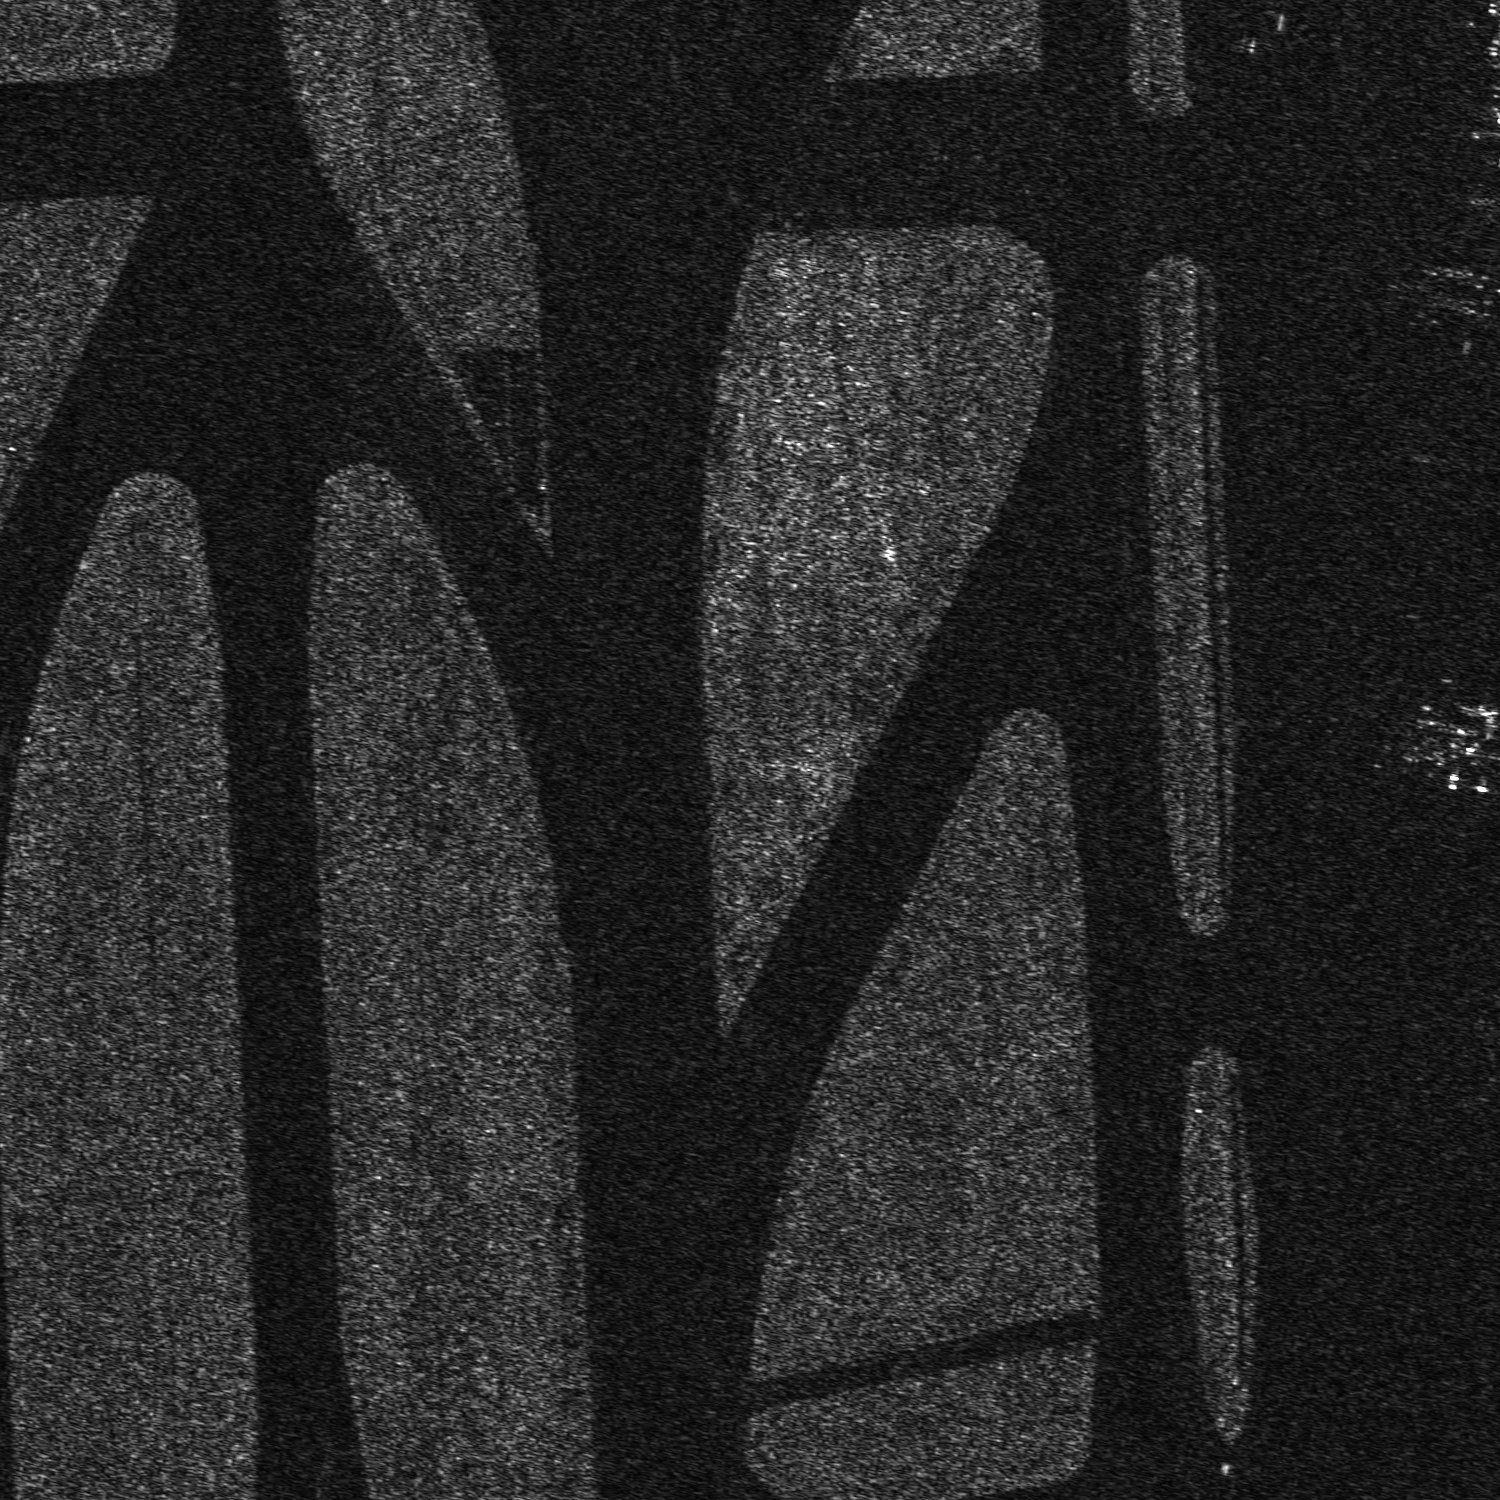A320/321: (1431, 702, 1499, 794)
